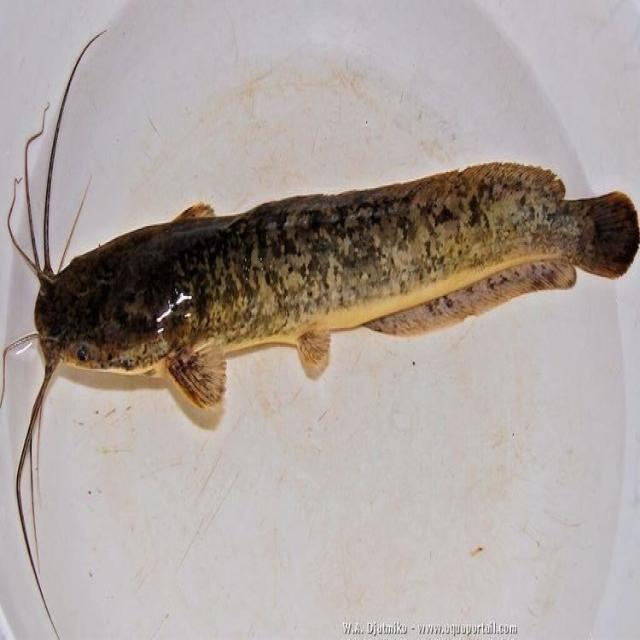Catfish: (6, 23, 640, 604)
